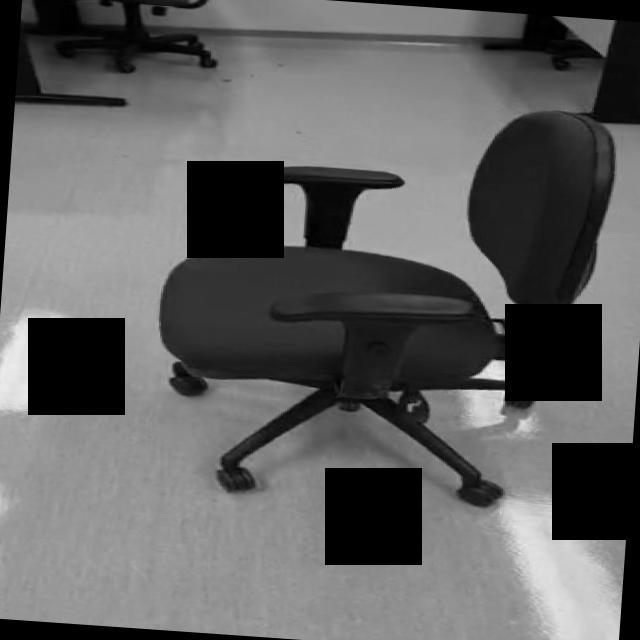chair: (144, 84, 618, 518)
